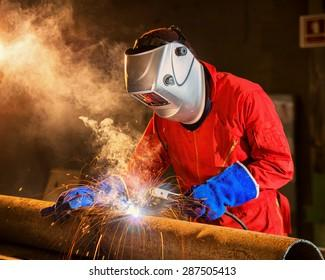gloves: (178, 160, 262, 220), (39, 173, 130, 225)
